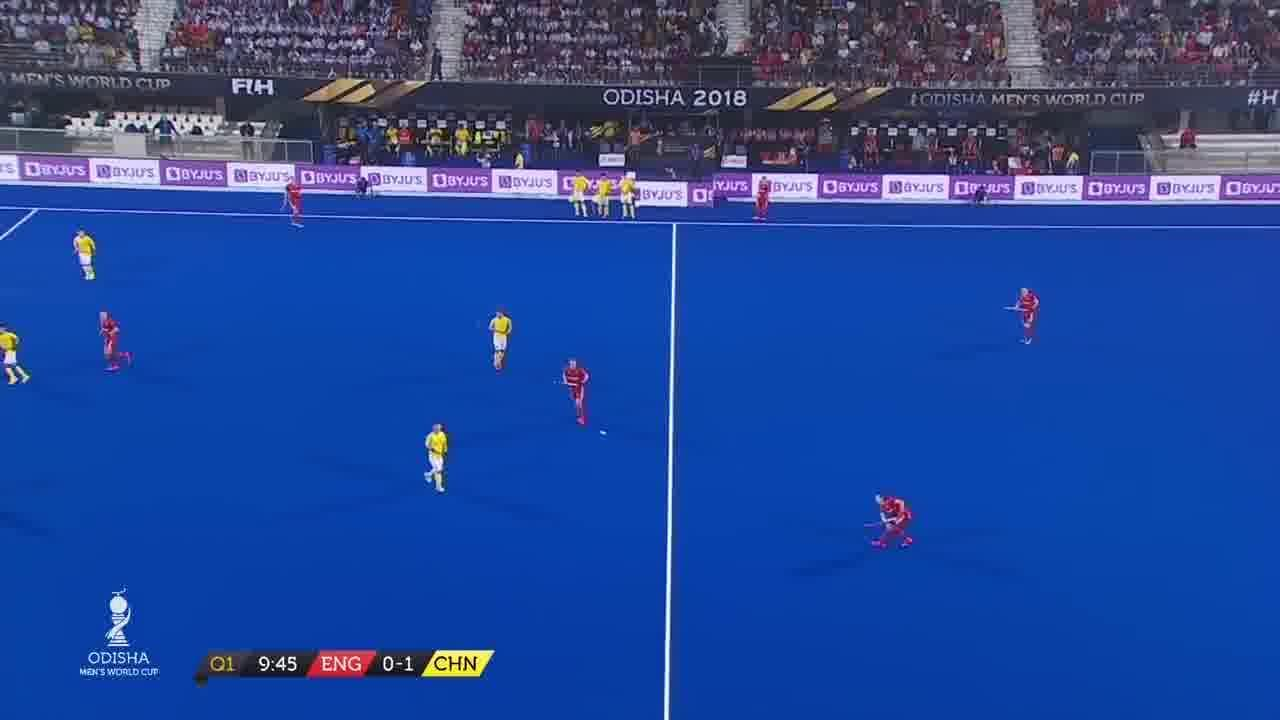ball: (598, 426, 611, 440)
